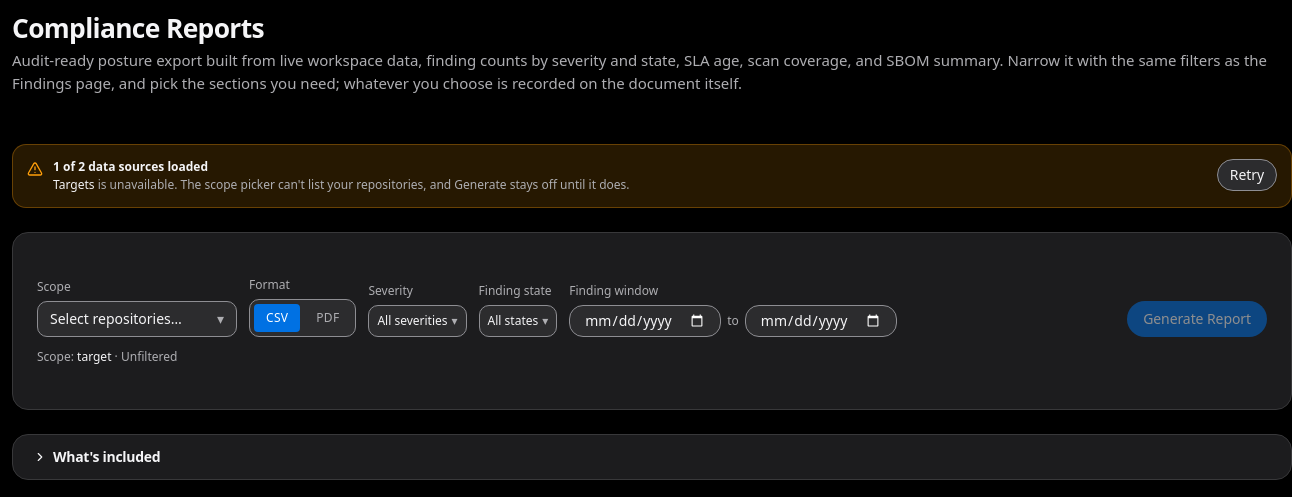
Test case: Reports page targets fetch › offers a retry that re-issues the targets request rather than a full page reload
Expected: the message is shown, 12,144 -> 1291,208
Click the button "Retry": (1247, 174) 1217,158 -> 1277,190
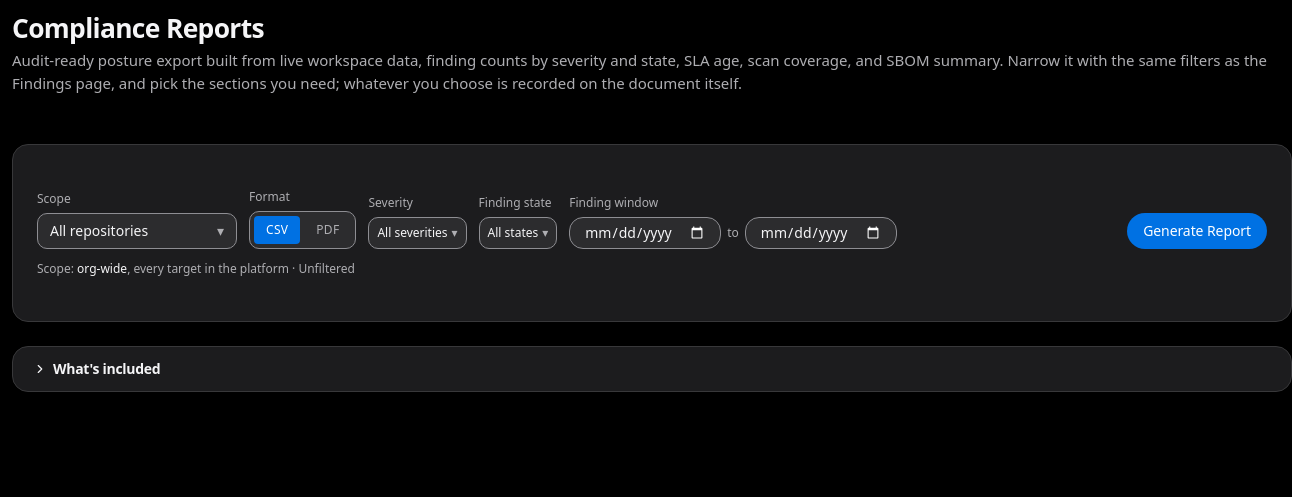
Expected: the message is gone
